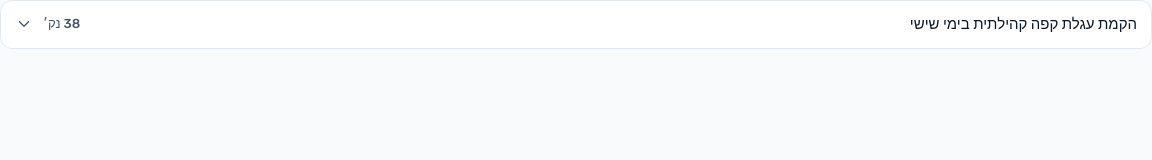
it: Design System & Infrastructure Guards (Milestone 1) › renders CompactGoalRow collapsed by default and toggles details on click
Expected: the text "דני כהן: הניסוח המקורי שלי" is not shown
Step 1. Click the button "הקמת עגלת קפה קהילתית בימי שישי 38 נק׳" → (1023, 24), box [15, 13, 1137, 36]
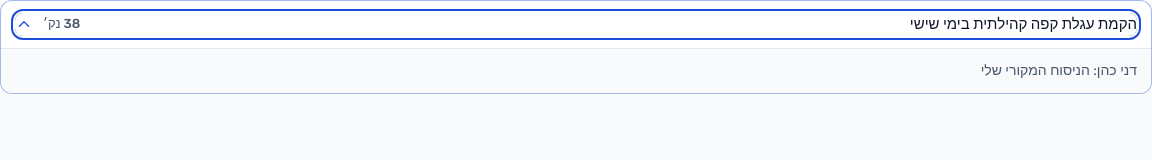
Result: the button "הקמת עגלת קפה קהילתית בימי שישי 38 נק׳" is expanded
Result: the text "דני כהן: הניסוח המקורי שלי" is shown at [981, 62, 1137, 78]
Step 2. Click the button "הקמת עגלת קפה קהילתית בימי שישי 38 נק׳" → (1023, 24), box [15, 13, 1137, 36]
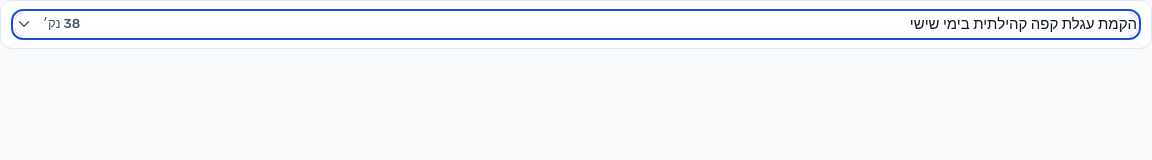
Result: the button "הקמת עגלת קפה קהילתית בימי שישי 38 נק׳" is collapsed at [15, 13, 1137, 36]
Result: the text "דני כהן: הניסוח המקורי שלי" is gone
